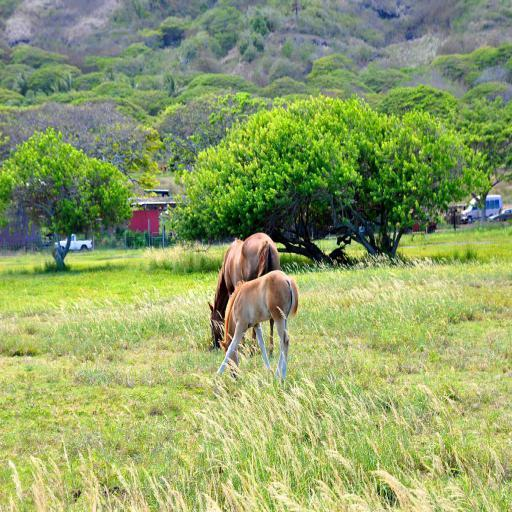Horse: (212, 268, 299, 384), (207, 229, 281, 349)
